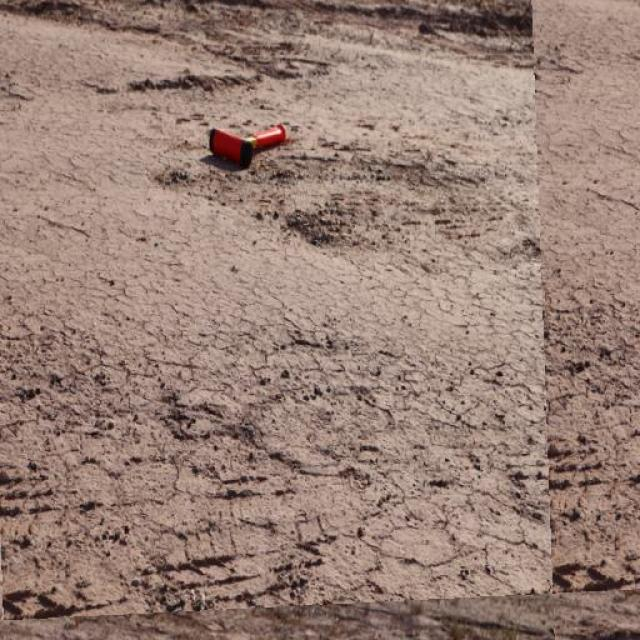mallet: (206, 121, 288, 168)
